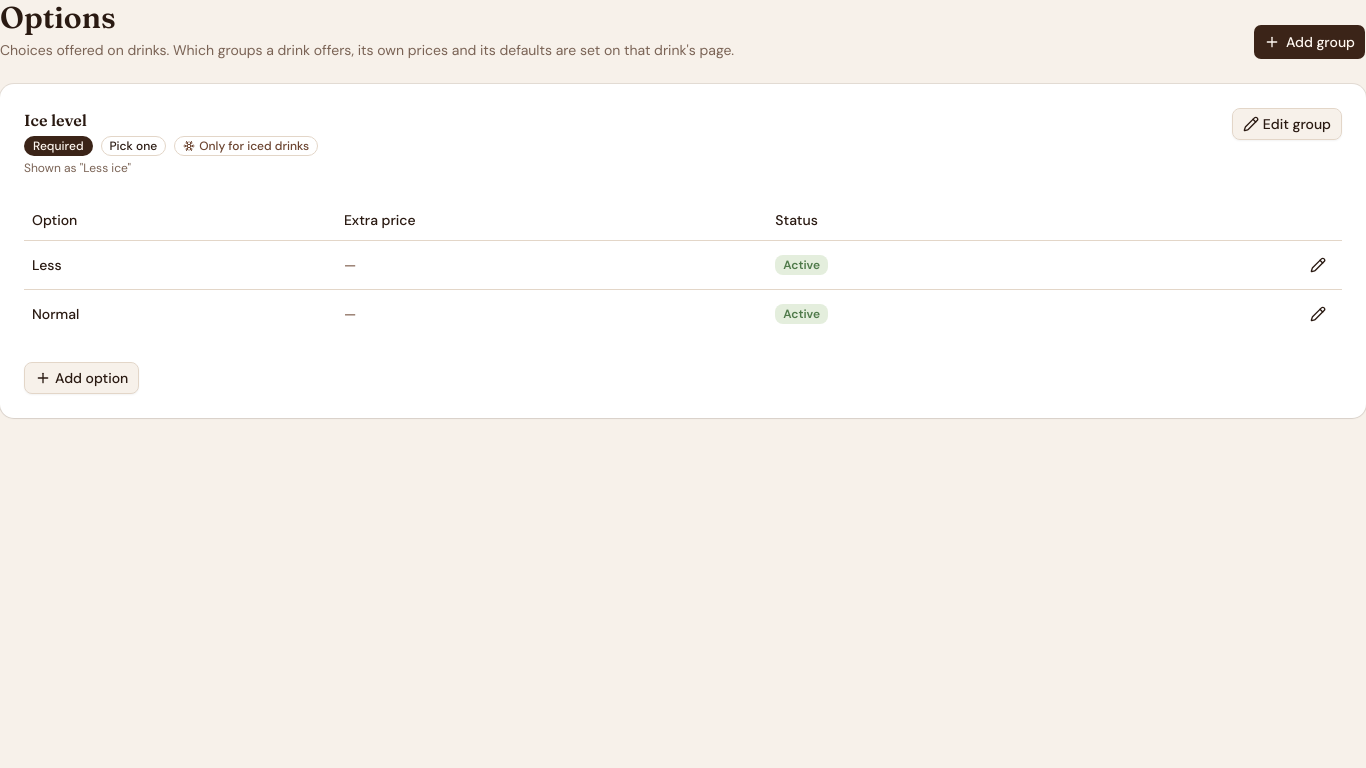
OptionGroupsPage (FR-26) › an empty option name never reaches the server
This screenshot has width=1366, height=768.
Expected: the text "Ice level" is shown, [24,110,87,130]
Click the button with aria-label "Add option to Ice level": (82, 378) [24,362,139,394]
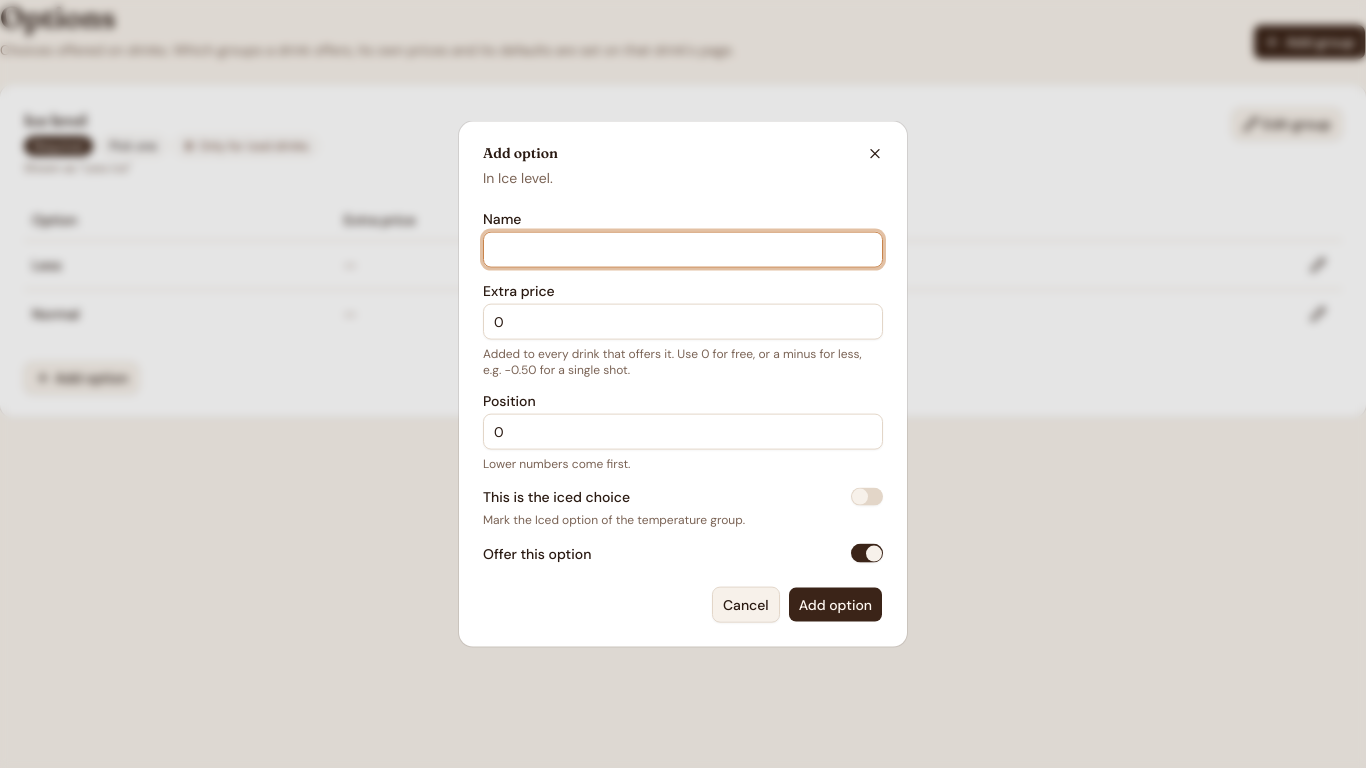
Click the button "Add option": (835, 604) [788,586,883,622]
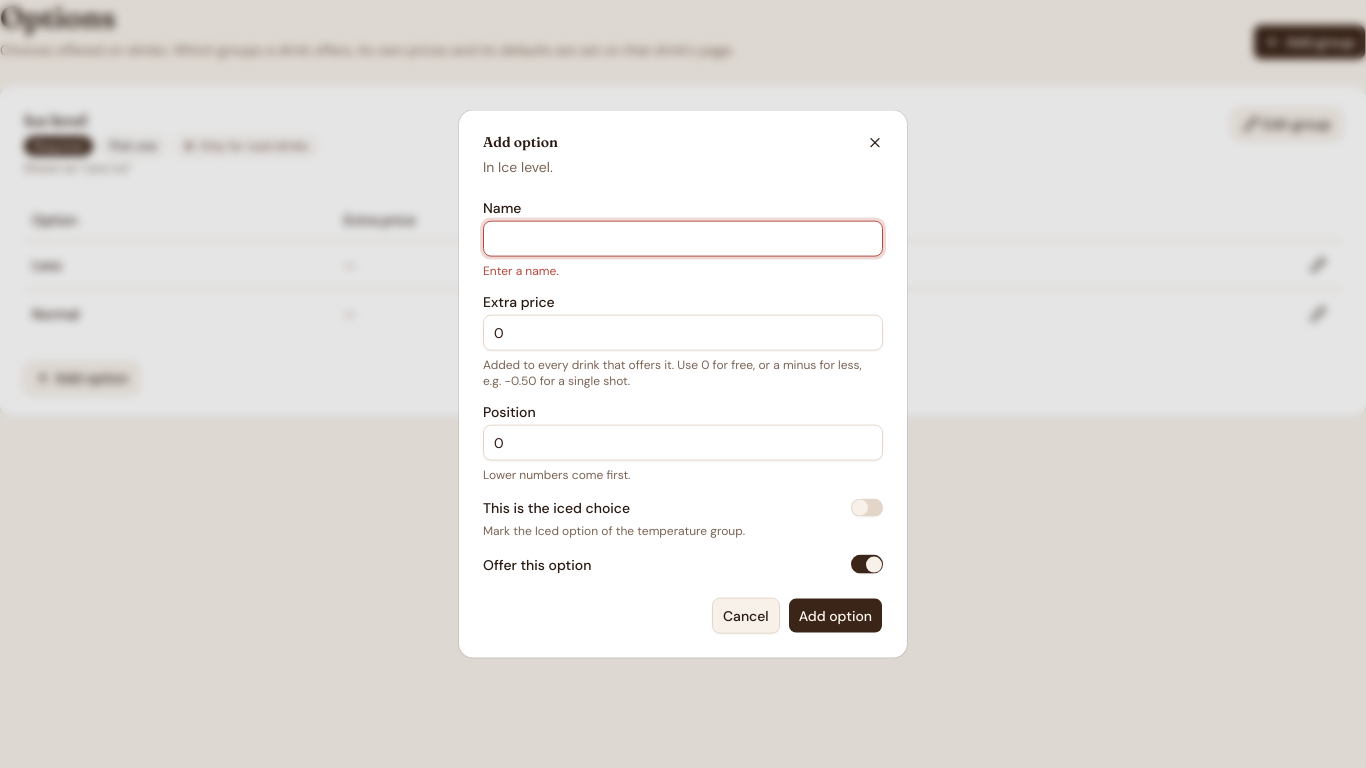
Expected: the text "Enter a name." is shown, [483,263,559,279]
